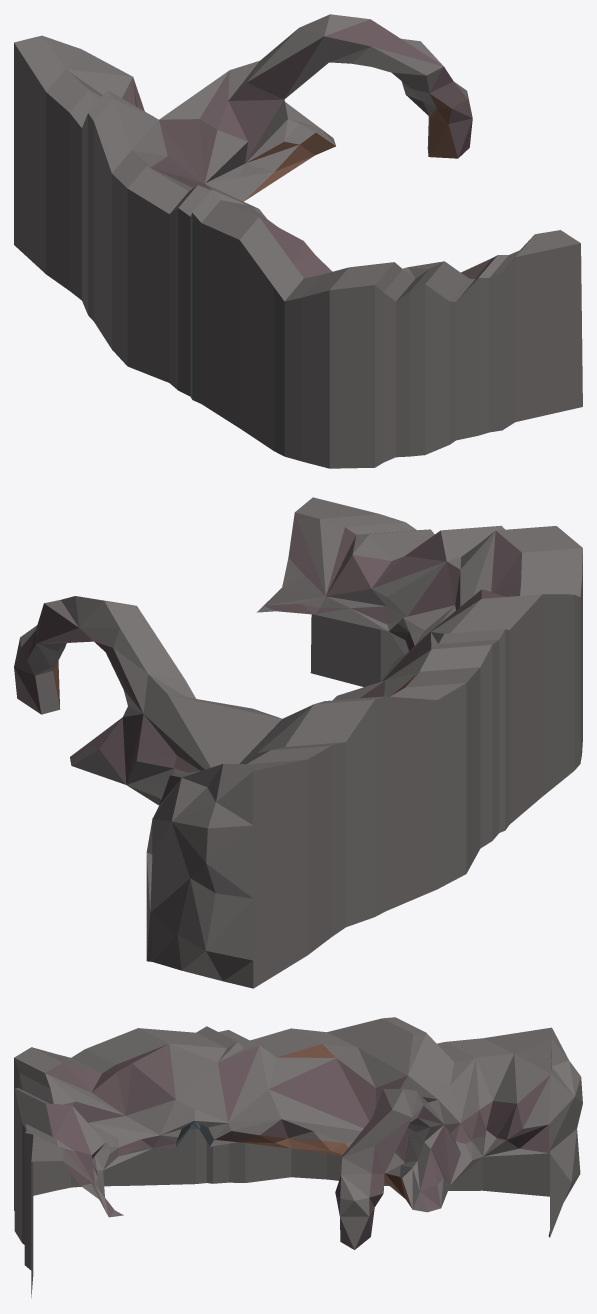
Rendered from mountain03.fbx.
3 renders of one model, top to bottom at view 1: azimuth 30°, elevation 25°; view 2: azimuth 150°, elevation 25°; view 3: azimuth 270°, elevation 25°, orthographic. The views are drawn at different scales.
Visible parts, largest first — view 1: Mountain02; view 2: Mountain02; view 3: Mountain02.
Boxes of the visible parts, x1,y1,x2,y2 form: Mountain02: (14,14,582,468); Mountain02: (14,497,582,988); Mountain02: (14,1017,582,1297).
Size of the model in its own units: 0.8392 by 0.5065 by 1.3.
